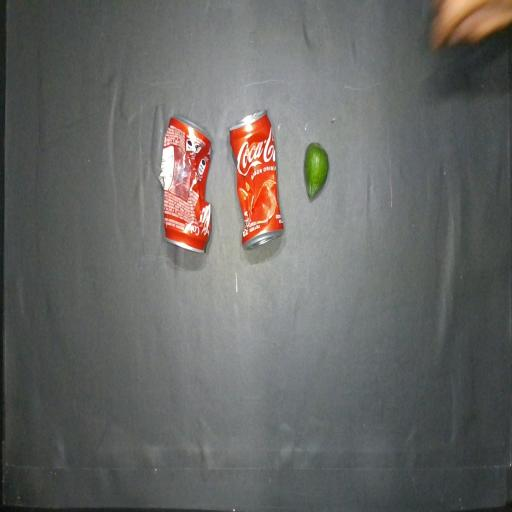higo: (304, 143, 329, 199)
lata_defectuoso: (230, 110, 283, 248), (159, 116, 211, 253)
